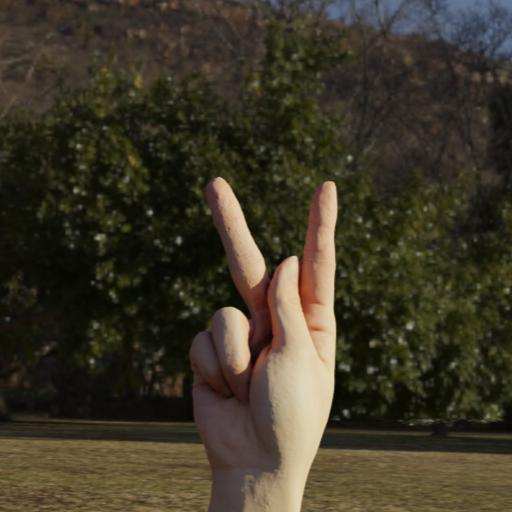K: (149, 142, 434, 512)
